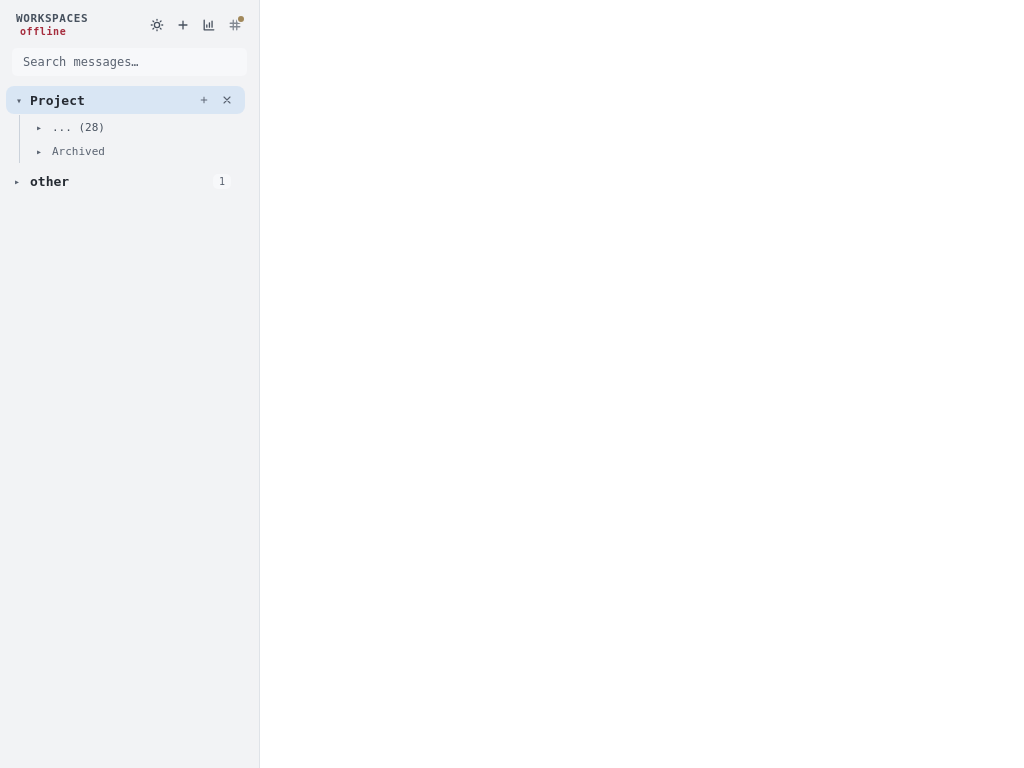
Scenario: keeps neighboring rows still on hover and active controls still on status updates
Later steps or results of the test are not shown.
Click the button with class "sidebar-debug".
click(235, 25)  # box [223, 13, 247, 37]
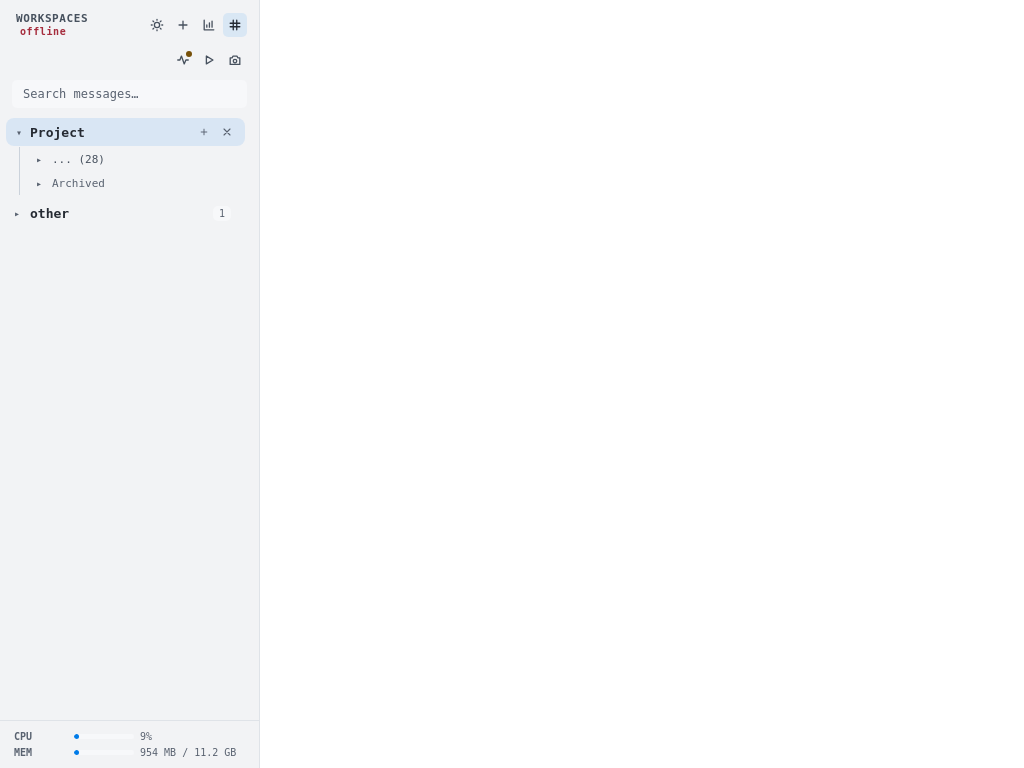
Click the button named "Capture debug snapshot".
click(235, 60)  # box [223, 48, 247, 72]
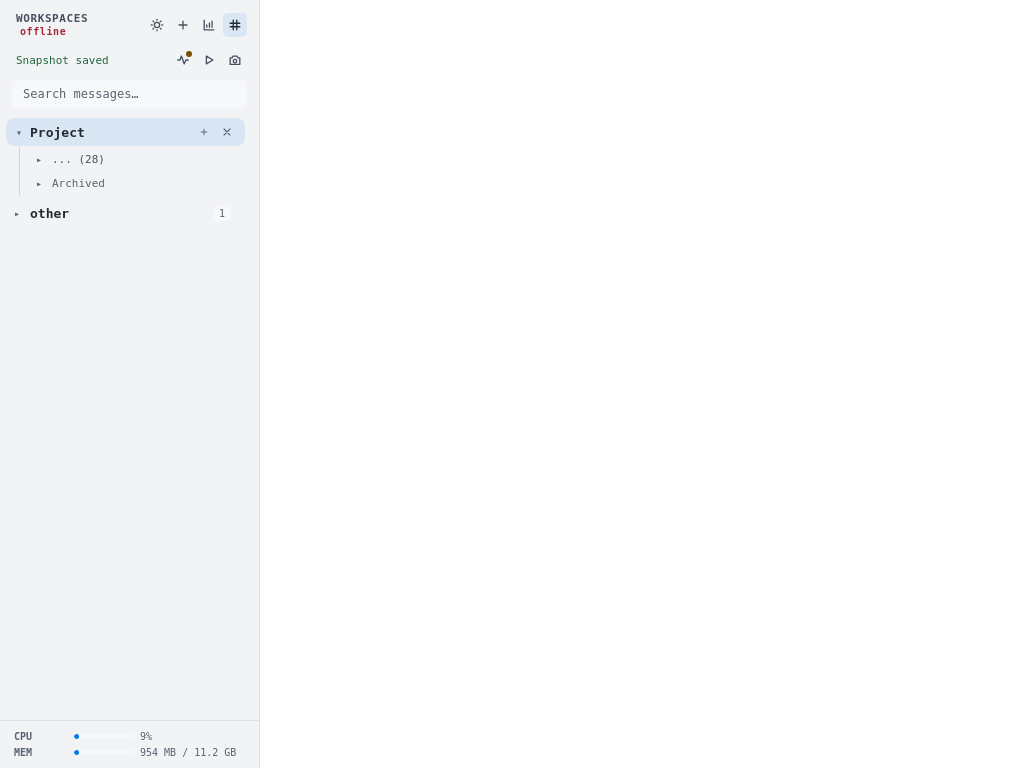
Result: the message with class "sidebar-debug-status" reads "Snapshot saved" at [16, 54, 109, 66]
